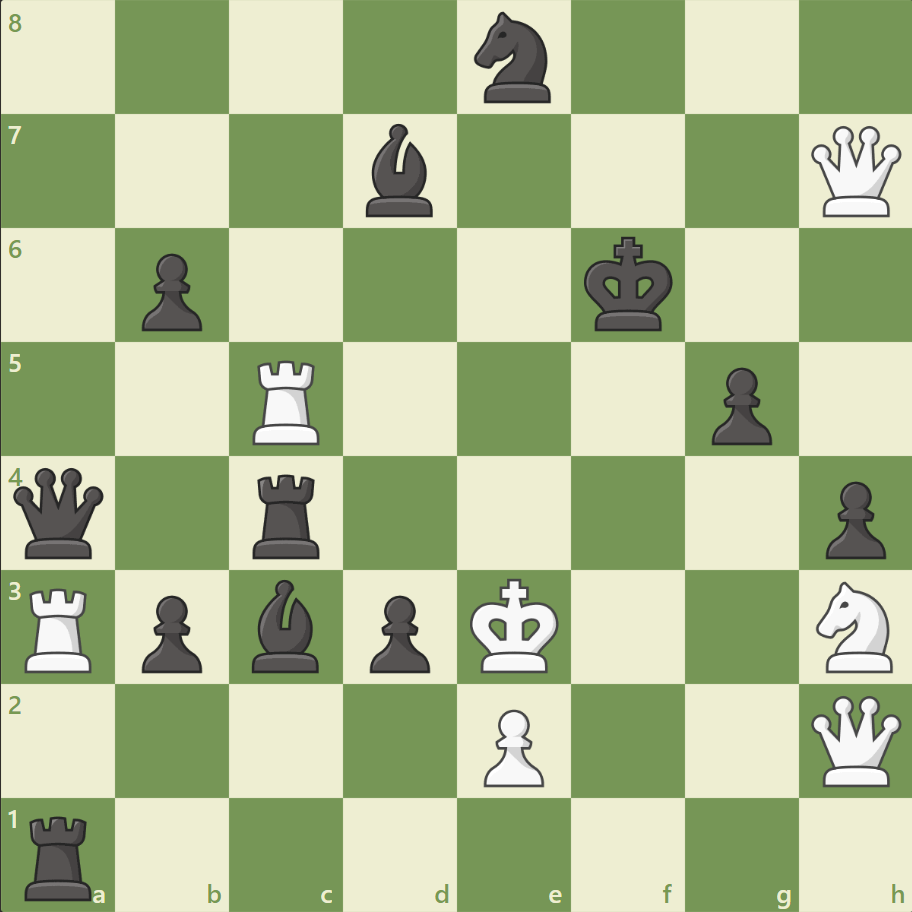K: (465, 571, 565, 679)
N: (806, 575, 903, 677)
P: (474, 700, 549, 791)
Q: (805, 122, 904, 222), (805, 690, 904, 789)
R: (246, 352, 329, 449), (19, 579, 102, 676)
b: (358, 120, 442, 222), (244, 574, 328, 676)
k: (579, 231, 679, 339)
n: (465, 7, 562, 110)
p: (133, 246, 208, 337), (701, 359, 776, 450), (133, 586, 208, 677), (815, 473, 889, 564), (361, 586, 435, 677)
q: (10, 463, 109, 562)
r: (19, 806, 102, 904), (246, 466, 329, 563)
